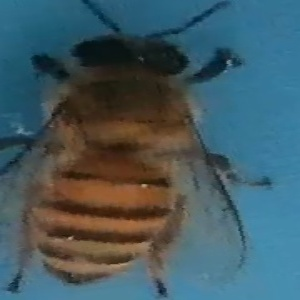bee: (3, 1, 255, 300)
